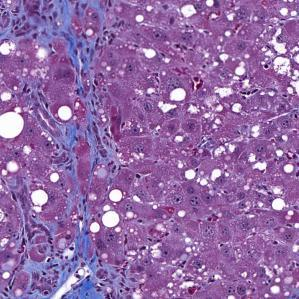fibrosis: (50, 128, 97, 286), (10, 9, 105, 66)
